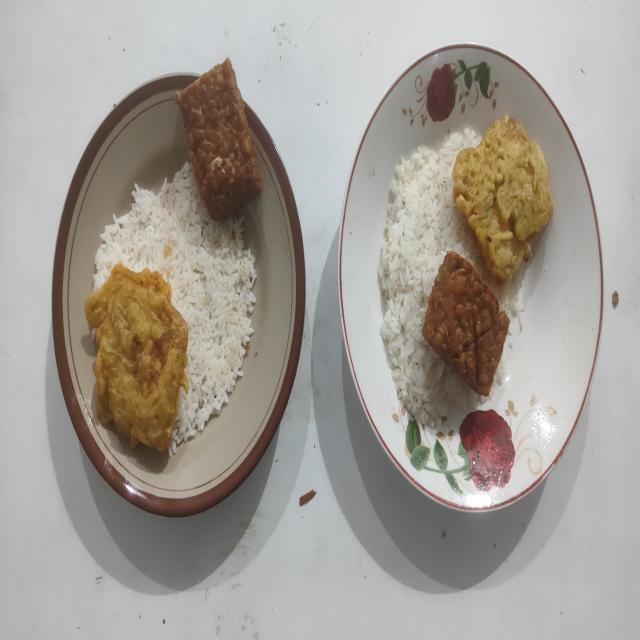nasi_putih: (94, 162, 256, 456), (378, 130, 480, 425)
tempe_goreng: (176, 58, 261, 220), (422, 252, 510, 396)
